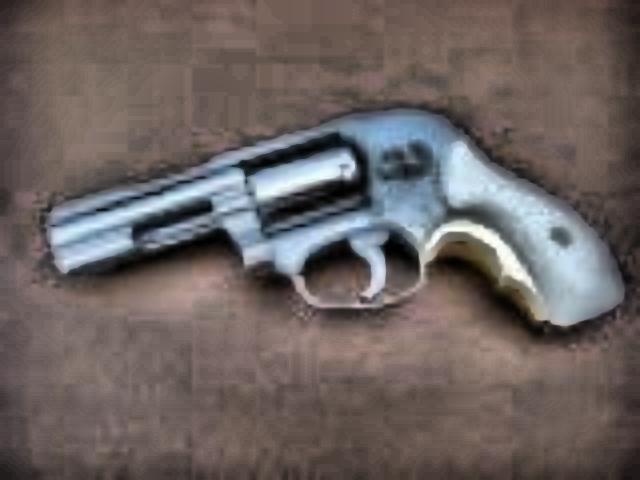pistol: (48, 108, 612, 356)
